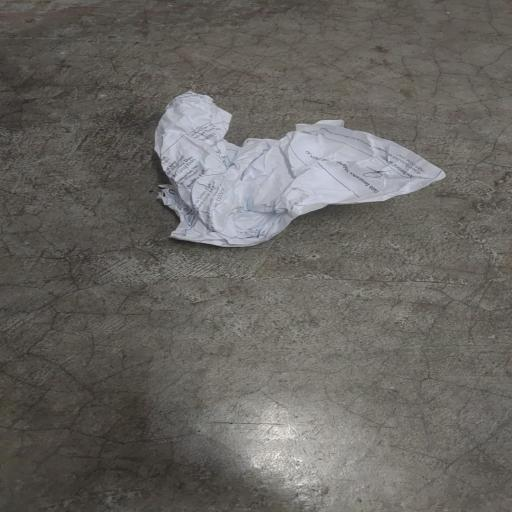paper: (148, 88, 450, 250)
